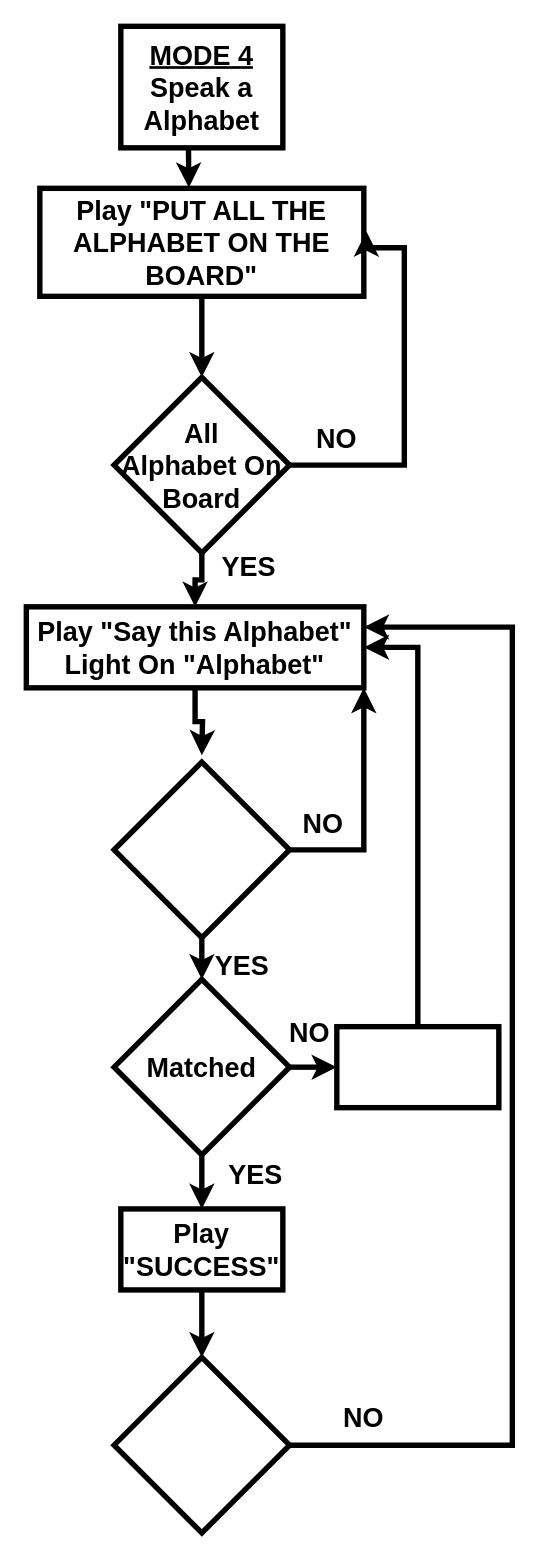
This 548x1558 diagram has some shape labels left out. Here are the shapes that lost their labels. From the top down, the centre of each, then its label:
the point at 201,849: Speak
the point at 417,1066: Play "WRONG"
the point at 201,1444: Mode Changed
